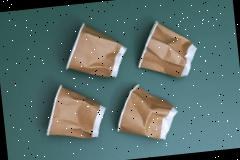paper: (60, 18, 130, 82), (132, 17, 200, 82), (111, 80, 179, 144), (40, 80, 108, 142)
